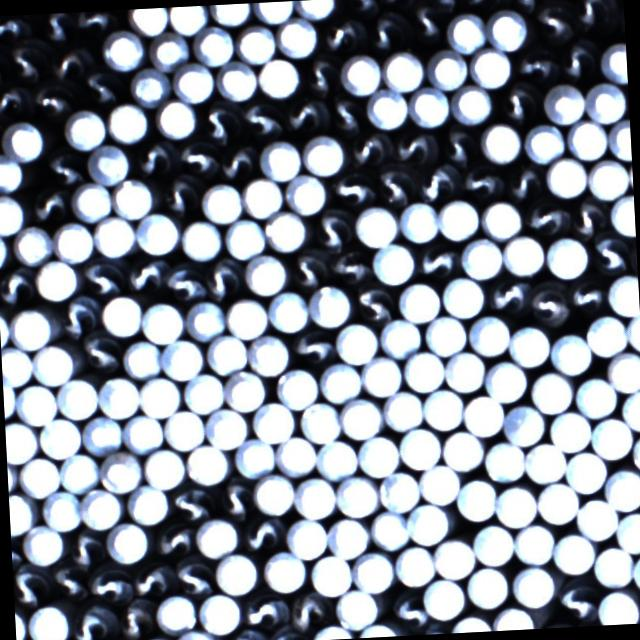tool: (261, 548, 306, 594), (96, 374, 141, 420), (224, 295, 269, 340), (511, 521, 556, 566), (222, 367, 268, 411), (454, 477, 498, 523), (477, 118, 521, 164), (382, 48, 426, 94), (140, 298, 184, 344), (552, 529, 596, 575), (574, 495, 620, 539), (104, 520, 150, 564), (334, 473, 378, 518), (13, 381, 57, 426), (292, 474, 337, 518), (136, 374, 181, 418), (308, 552, 352, 597), (328, 514, 372, 559), (588, 415, 632, 460), (32, 258, 78, 301), (252, 470, 295, 516), (135, 210, 178, 256), (371, 241, 417, 284), (264, 208, 308, 252), (420, 576, 464, 620), (106, 100, 150, 144), (459, 236, 503, 280), (204, 405, 248, 449), (441, 274, 485, 318), (274, 364, 318, 408), (17, 455, 61, 499), (162, 408, 206, 452), (339, 52, 383, 96), (334, 586, 378, 630), (38, 416, 82, 460), (436, 198, 480, 242), (244, 251, 288, 295), (78, 486, 122, 530), (405, 500, 449, 544), (196, 590, 240, 634), (545, 234, 589, 278), (528, 370, 572, 414), (566, 449, 610, 493), (62, 107, 106, 151), (308, 284, 352, 328), (353, 204, 398, 247), (193, 515, 238, 558), (351, 548, 393, 594), (56, 375, 98, 421), (100, 292, 142, 338), (184, 442, 228, 485), (407, 85, 451, 128), (240, 175, 284, 218), (247, 332, 290, 376), (92, 215, 136, 258), (284, 515, 328, 558), (506, 324, 550, 367), (338, 396, 382, 439), (317, 360, 361, 403), (392, 542, 435, 586), (213, 552, 257, 595), (471, 522, 514, 566), (222, 216, 266, 259), (178, 218, 222, 261), (397, 279, 441, 322), (335, 320, 379, 363), (422, 386, 464, 431), (488, 6, 529, 52), (182, 371, 225, 414), (256, 55, 299, 98), (416, 462, 459, 505), (440, 428, 483, 471), (192, 24, 235, 67), (85, 142, 128, 185), (549, 408, 592, 451), (480, 197, 523, 240), (494, 483, 537, 526), (543, 83, 586, 126), (10, 307, 53, 350), (284, 172, 328, 214), (70, 181, 114, 223), (298, 399, 340, 443), (160, 338, 204, 380), (232, 436, 276, 478), (482, 438, 524, 482), (98, 450, 142, 492), (364, 88, 408, 130), (378, 316, 422, 358), (587, 156, 629, 200), (585, 80, 627, 124), (400, 425, 442, 469), (126, 482, 170, 524), (465, 564, 507, 608), (585, 313, 627, 357), (112, 176, 154, 220), (31, 343, 75, 385), (80, 412, 122, 456), (266, 288, 308, 332), (501, 404, 545, 446), (536, 480, 578, 524), (200, 180, 242, 224), (302, 134, 346, 176), (512, 566, 556, 608), (466, 313, 510, 355), (250, 401, 295, 442), (101, 31, 146, 72), (274, 434, 317, 476), (204, 332, 246, 375), (275, 16, 318, 58), (523, 121, 565, 164), (356, 433, 398, 476), (52, 221, 94, 264), (545, 156, 588, 198), (315, 436, 357, 479), (173, 62, 216, 104), (120, 412, 163, 454), (592, 544, 634, 587), (469, 46, 512, 88), (450, 84, 493, 126), (142, 446, 185, 488), (234, 22, 276, 65), (502, 234, 545, 276), (550, 331, 592, 374), (258, 138, 300, 181), (444, 11, 487, 53), (486, 361, 528, 404), (40, 489, 81, 533), (424, 314, 466, 356), (443, 350, 485, 392), (432, 538, 474, 580), (216, 60, 258, 102), (360, 355, 402, 397), (574, 376, 616, 418), (10, 224, 52, 266), (3, 118, 45, 160), (567, 119, 608, 162), (377, 468, 418, 511), (59, 451, 100, 494), (184, 297, 225, 340), (398, 200, 439, 243), (428, 49, 469, 91), (522, 442, 564, 483), (463, 392, 504, 434), (383, 390, 424, 431), (403, 352, 445, 392), (128, 66, 170, 106), (120, 338, 162, 378), (154, 98, 196, 138), (368, 508, 408, 550), (22, 525, 64, 565), (596, 588, 640, 626), (26, 602, 70, 640), (155, 592, 196, 632), (604, 467, 640, 511), (150, 31, 190, 70), (605, 272, 640, 316), (606, 350, 640, 393), (5, 420, 38, 464), (1, 344, 34, 387), (9, 492, 37, 538), (599, 40, 628, 83), (166, 5, 206, 36), (608, 192, 636, 235), (492, 604, 534, 632), (128, 8, 168, 36), (614, 510, 640, 553), (449, 610, 492, 634), (0, 152, 25, 193), (210, 3, 252, 27), (252, 1, 294, 25), (608, 118, 632, 160), (0, 193, 24, 232), (620, 387, 640, 431), (295, 0, 337, 19), (175, 627, 217, 640), (631, 550, 640, 592)
tool_b: (76, 322, 124, 376), (369, 164, 421, 210), (552, 576, 598, 627), (414, 160, 464, 204), (521, 196, 571, 240), (58, 292, 102, 341), (86, 560, 132, 606), (314, 204, 356, 254), (529, 0, 574, 46), (526, 279, 570, 326), (198, 257, 246, 300), (196, 100, 242, 144), (387, 586, 432, 630), (461, 160, 504, 206), (157, 173, 200, 218), (80, 254, 126, 296), (240, 512, 286, 554), (116, 594, 158, 640), (282, 96, 330, 136), (148, 522, 198, 560), (238, 590, 288, 628), (175, 136, 218, 180), (125, 254, 168, 298), (298, 54, 340, 99), (287, 591, 333, 632), (390, 129, 438, 168), (340, 130, 389, 168), (164, 259, 208, 301), (354, 284, 398, 326), (329, 167, 375, 207), (568, 196, 610, 239), (319, 16, 364, 56), (78, 66, 124, 105), (216, 136, 258, 178), (12, 564, 54, 606), (5, 41, 48, 82), (497, 80, 537, 124), (290, 326, 336, 364), (70, 602, 116, 640), (65, 526, 106, 568), (589, 235, 630, 277), (30, 76, 73, 116), (485, 277, 528, 317), (328, 248, 373, 286), (412, 242, 459, 278), (170, 559, 214, 597), (571, 0, 617, 36), (328, 92, 364, 138), (51, 562, 90, 604), (515, 49, 557, 88), (368, 8, 406, 51), (218, 478, 255, 522), (47, 42, 92, 78), (0, 263, 36, 308), (170, 488, 216, 523), (46, 147, 86, 187), (290, 250, 330, 290), (438, 126, 476, 168), (28, 186, 70, 223), (562, 36, 596, 81), (240, 99, 278, 139), (137, 138, 177, 176), (504, 162, 542, 202), (568, 276, 606, 316), (132, 561, 174, 596), (410, 2, 442, 45), (0, 81, 32, 118), (41, 12, 75, 44), (72, 11, 116, 34), (0, 15, 30, 41), (339, 0, 380, 17), (512, 0, 552, 11), (429, 0, 461, 13), (463, 0, 508, 9), (0, 44, 9, 83), (0, 112, 5, 156)
